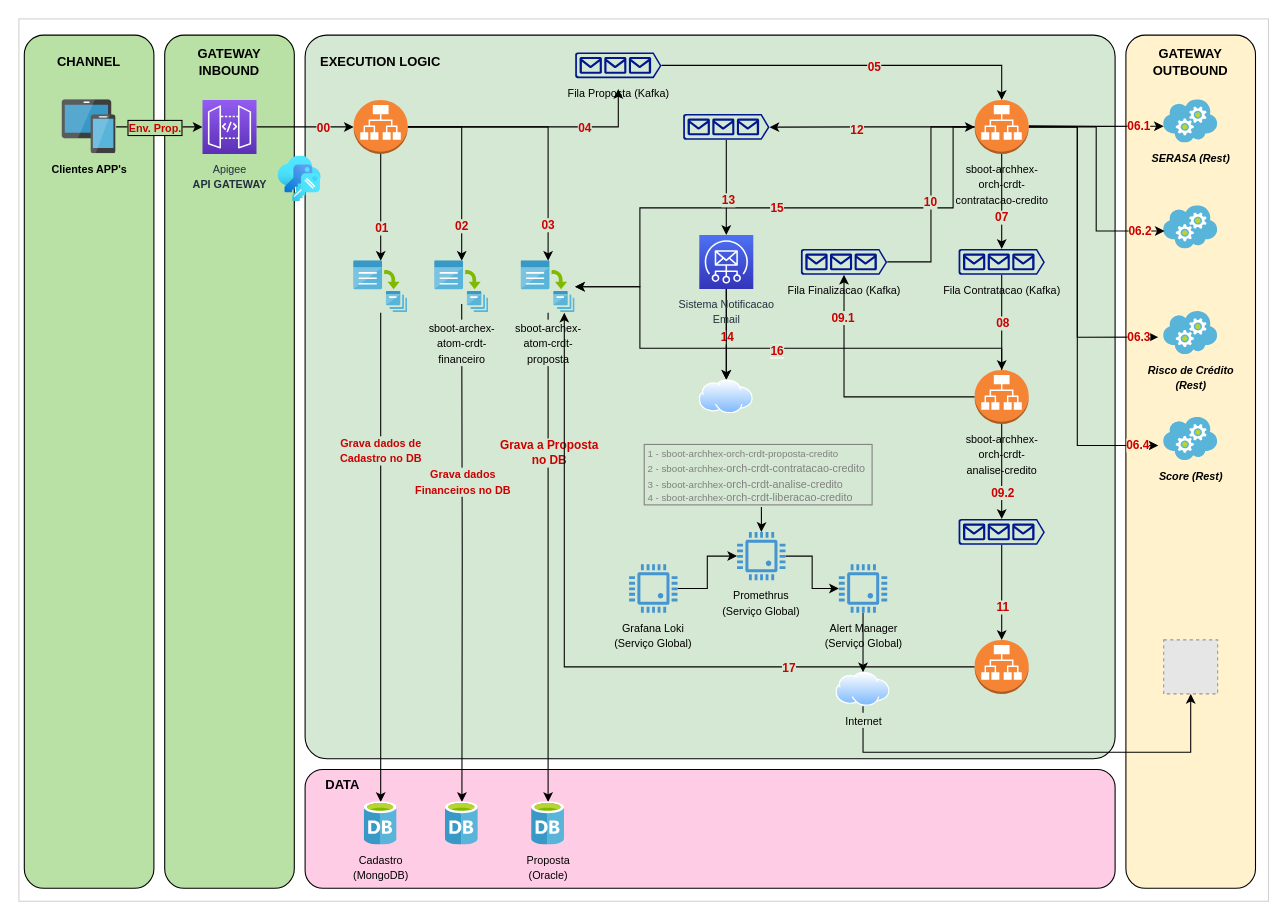
Image size: 1287x920. Some labels were removed from this diagram. Grey dashed boxes stand in for pictures. Each missing label, with the box of its shape:
Fila Liberacao Credito (Kafka): (958, 518, 1044, 544)
Fila Notificacao Email (Kafka): (683, 113, 769, 139)
Financeiro (MongoDB): (445, 801, 478, 845)
JWT: (278, 155, 321, 201)
sboot-archex- atom-crdt- cadastro: (353, 260, 407, 312)
sboot-archhex- orch-crdt- liberacao-credito: (974, 639, 1029, 694)
sboot-archhex- orch-crdt- proposta-credito: (353, 99, 408, 154)
Servidor de Email: (699, 379, 753, 413)
SPC (Rest): (1163, 205, 1217, 248)
